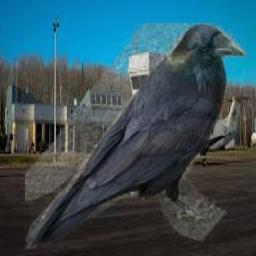Crow: (25, 23, 247, 249)
